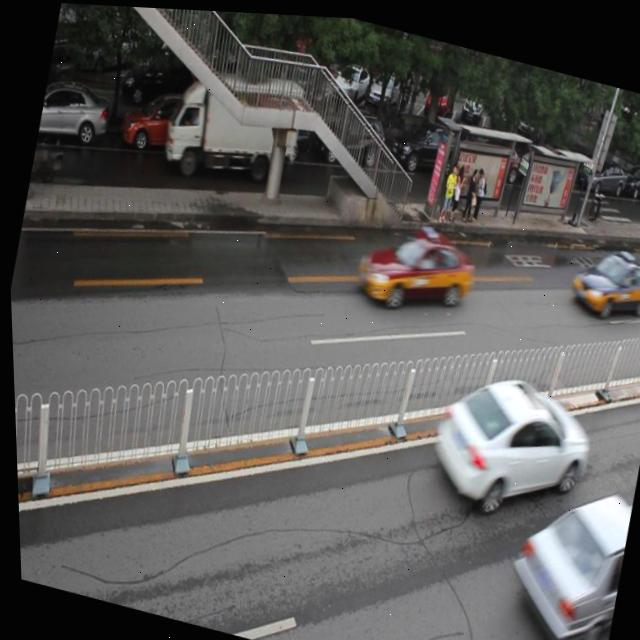bus: (157, 48, 312, 190)
car: (415, 356, 594, 528), (493, 474, 632, 640), (347, 206, 480, 322), (210, 88, 317, 174), (115, 80, 214, 164), (564, 233, 640, 320), (307, 90, 387, 172), (382, 104, 465, 180), (35, 76, 113, 151)
